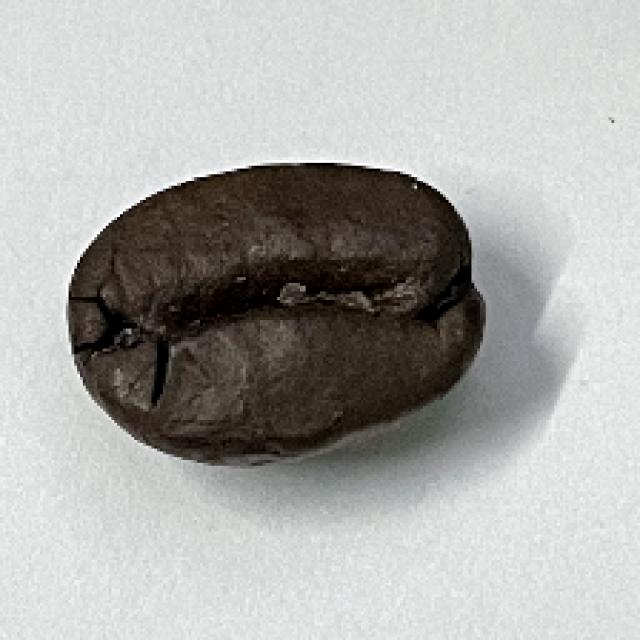bean: (58, 158, 488, 468)
